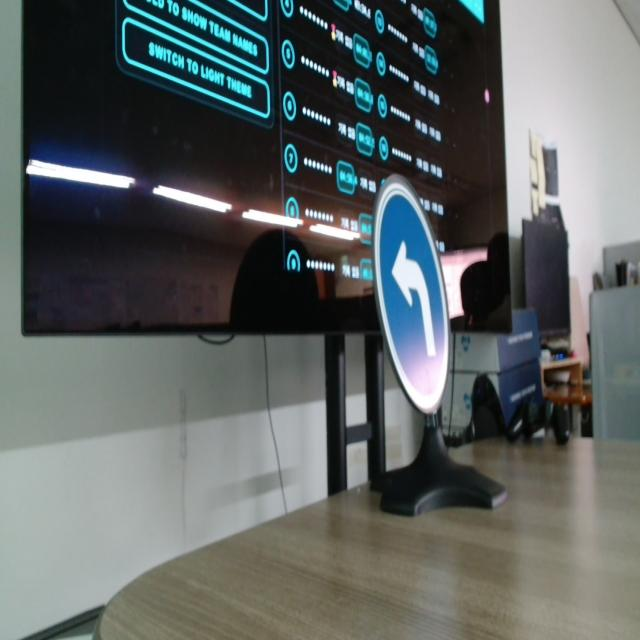left_direction: (366, 172, 454, 416)
